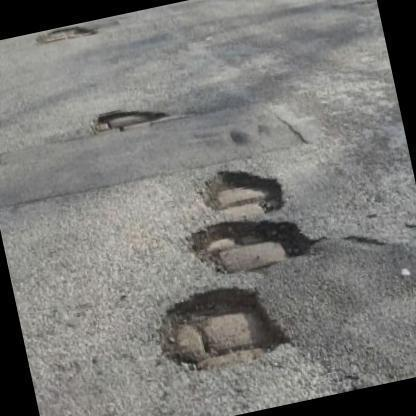pothole: (160, 284, 290, 371), (186, 218, 324, 275), (199, 168, 285, 218), (96, 108, 166, 134), (37, 22, 99, 46)
